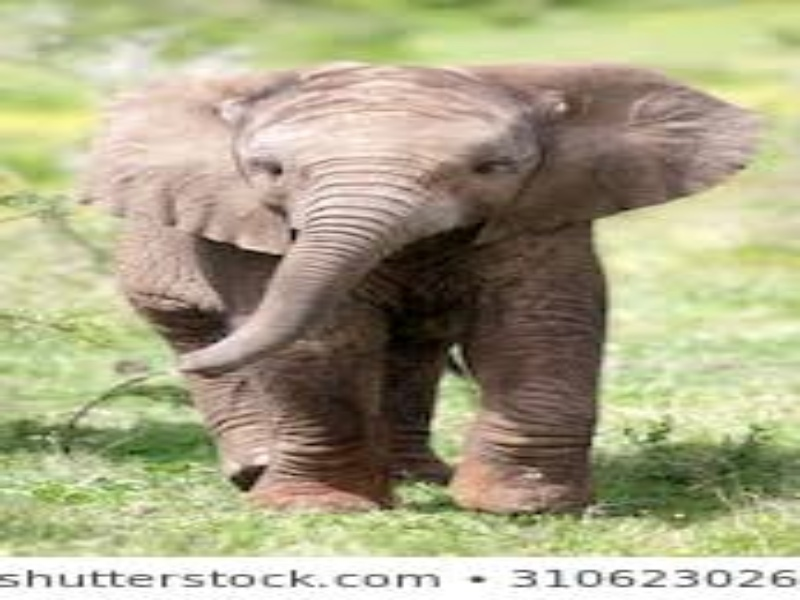elephant: (79, 54, 759, 536)
